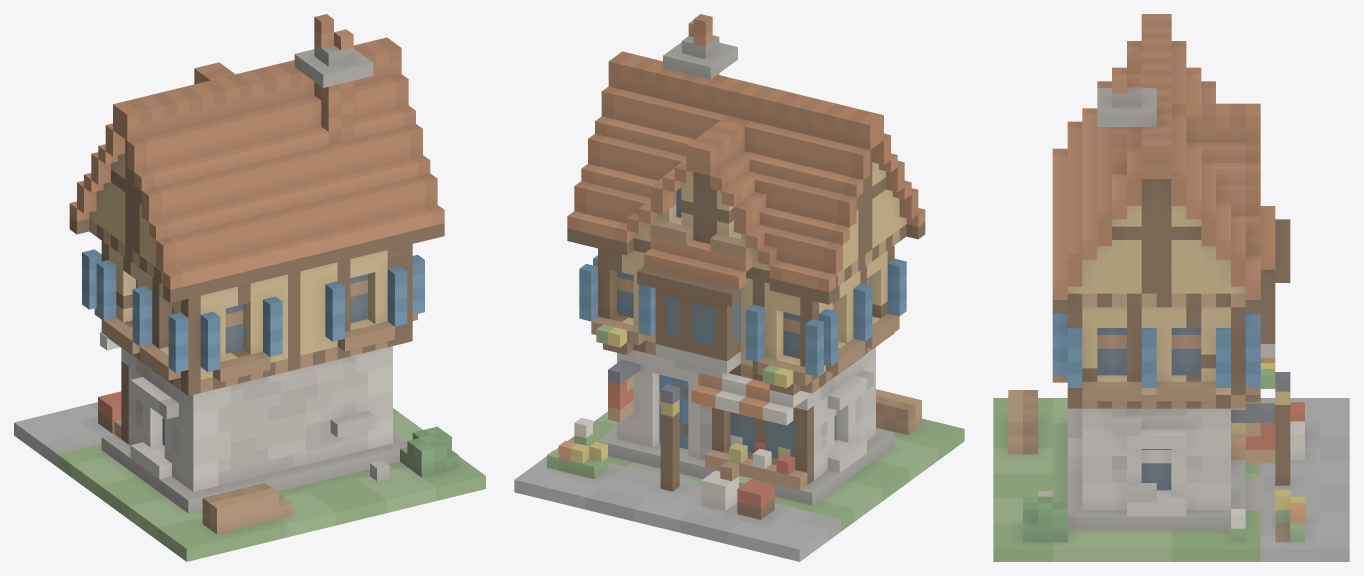
File: house_merchants.v0.glb
3 views of the same model, side by side, from view 1: azimuth 30°, elevation 25°; view 2: azimuth 150°, elevation 25°; view 3: azimuth 270°, elevation 25° (orthographic). The views are drawn at different scales.
Visible parts, largest first — view 1: house_merchants; view 2: house_merchants; view 3: house_merchants.
Part boxes in pixels (box(x1,y1,x2,y2)): house_merchants: box(14, 14, 485, 561); house_merchants: box(514, 14, 964, 561); house_merchants: box(993, 14, 1349, 561).
Size of the model in its own units: 3 by 4.25 by 3.
